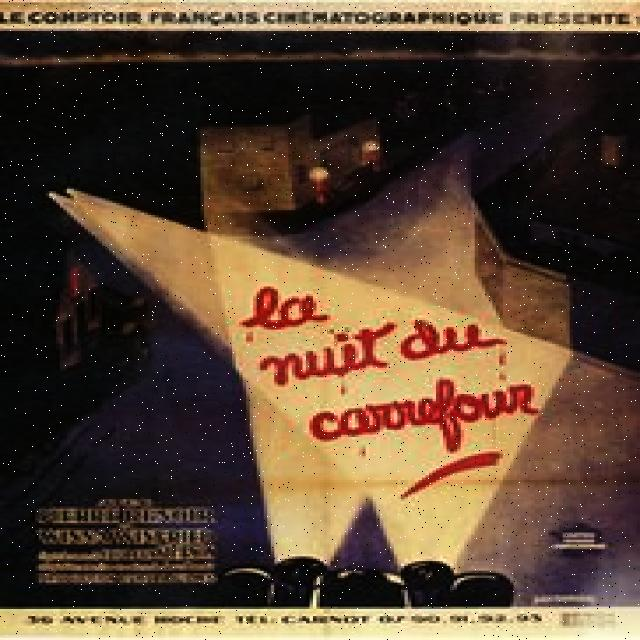movie-judul: (222, 266, 548, 506), (14, 487, 229, 596)
picture: (11, 32, 638, 610)
